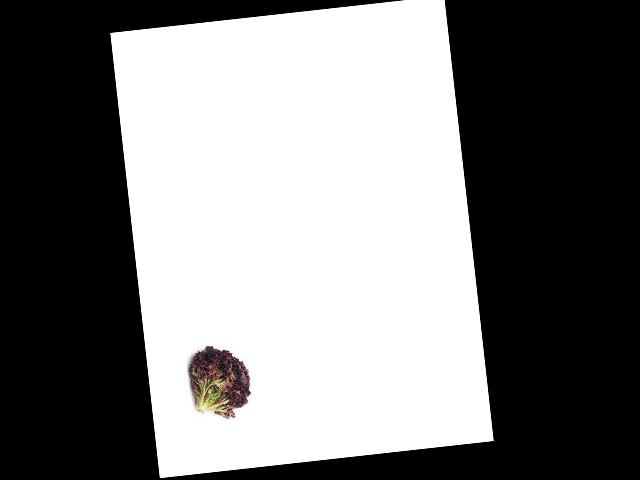lettuce: (185, 334, 263, 461)
